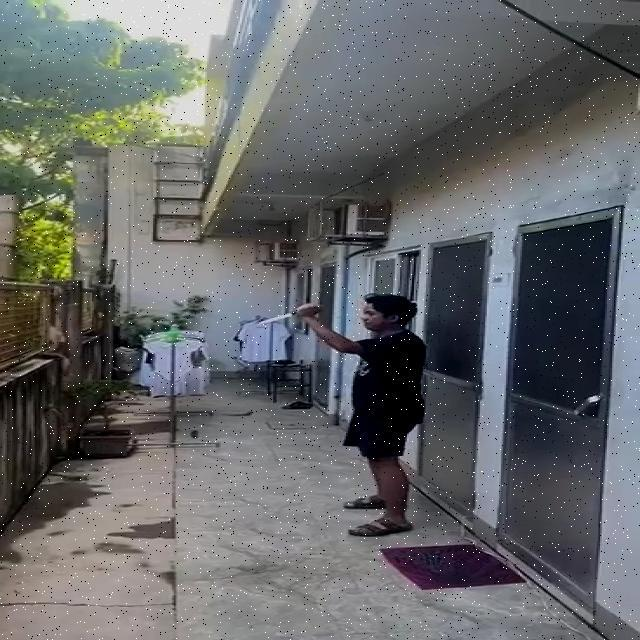knife: (254, 310, 300, 328)
non-violence: (256, 294, 428, 538)
